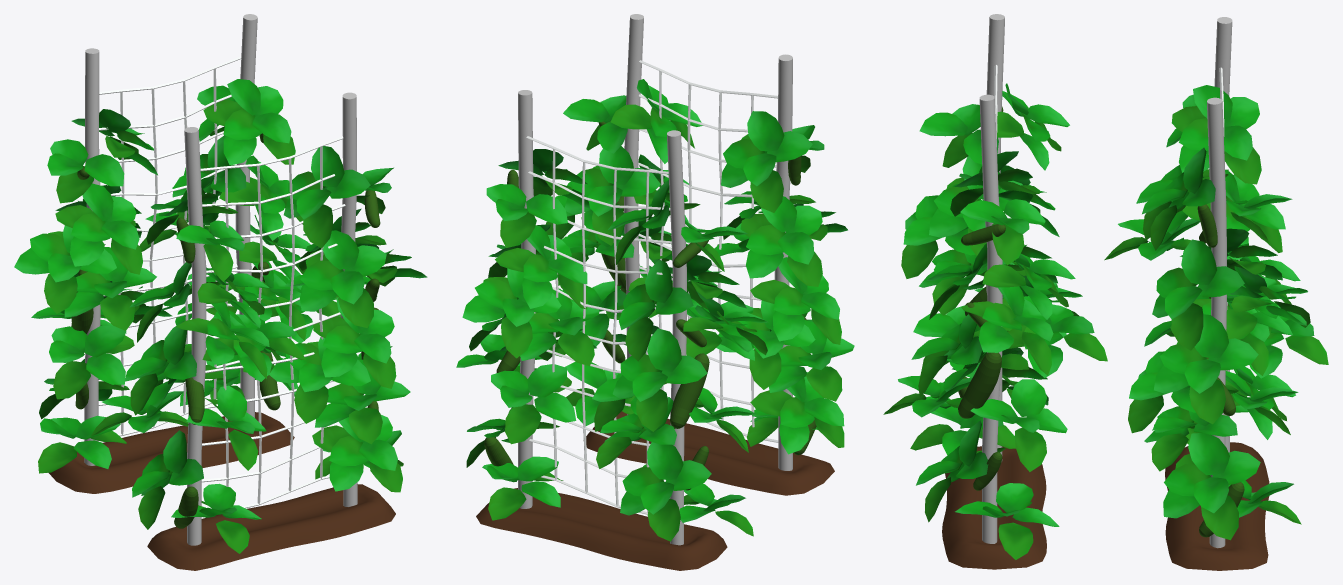
File: Cucumber4.fbx
The picture shows the model from 3 angles, left to right: view 1: azimuth 30°, elevation 25°; view 2: azimuth 150°, elevation 25°; view 3: azimuth 270°, elevation 25°; orthographic projection. The views are drawn at different scales.
Visible parts, largest first — view 1: 4; view 2: 4; view 3: 4.
Boxes of the visible parts, x1=… form: 4: x1=14, y1=14, x2=427, y2=570; 4: x1=456, y1=14, x2=854, y2=570; 4: x1=883, y1=14, x2=1328, y2=570.
Size of the model in its own units: 367 by 470 by 421.
